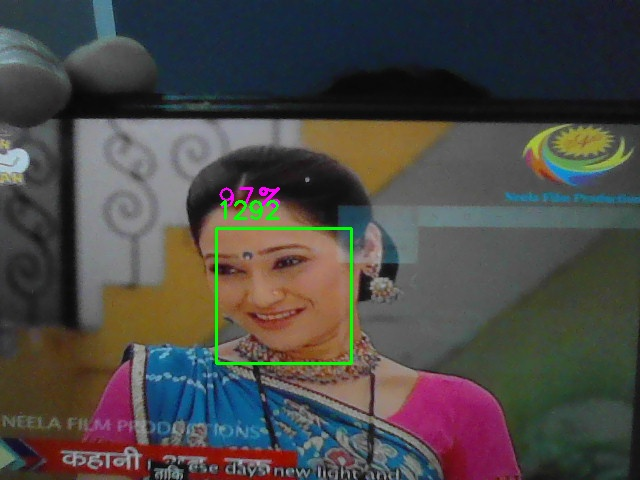fake: (216, 228, 352, 364)
